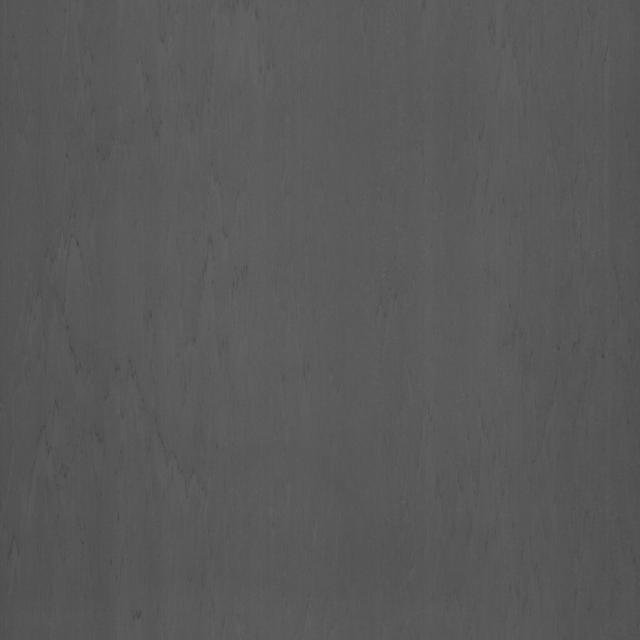inclusion: (31, 109, 244, 550)
